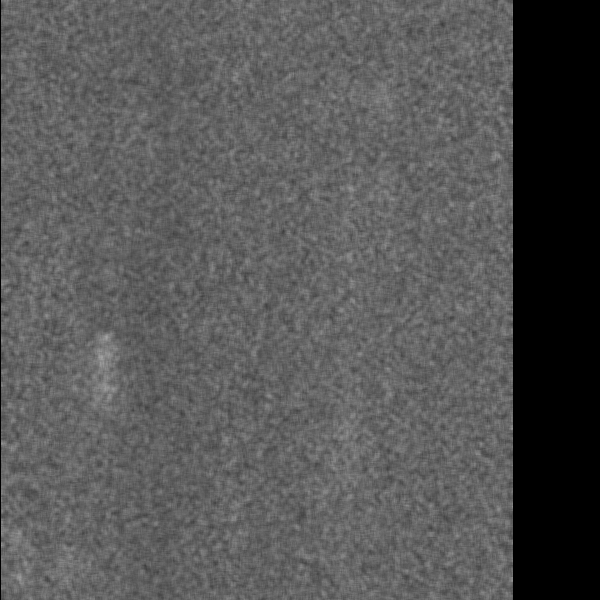spark: (90, 328, 112, 427)
